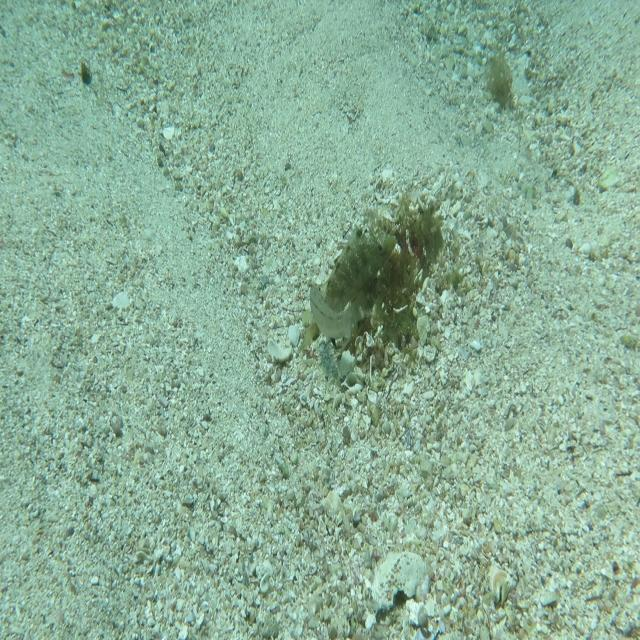LF: (293, 217, 398, 359)
female: (307, 282, 361, 350)
nest: (310, 171, 456, 382)
